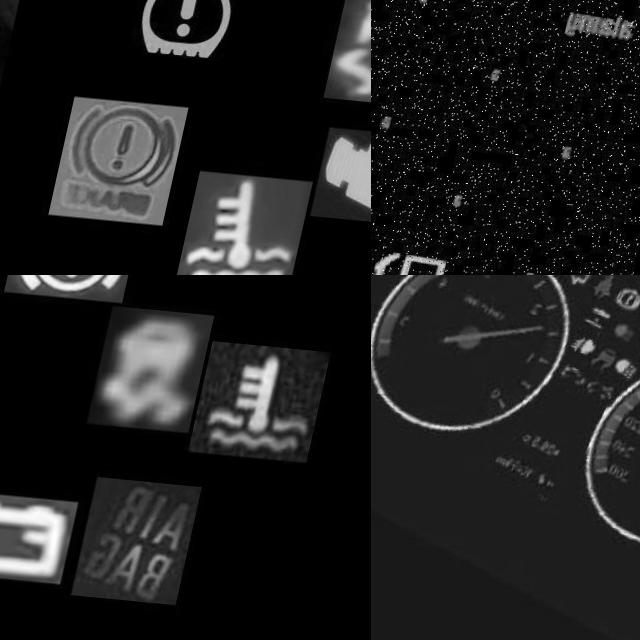Central Warning lamp: (0, 0, 38, 92)
Engine cooling system: (200, 331, 338, 451), (200, 163, 334, 275)
